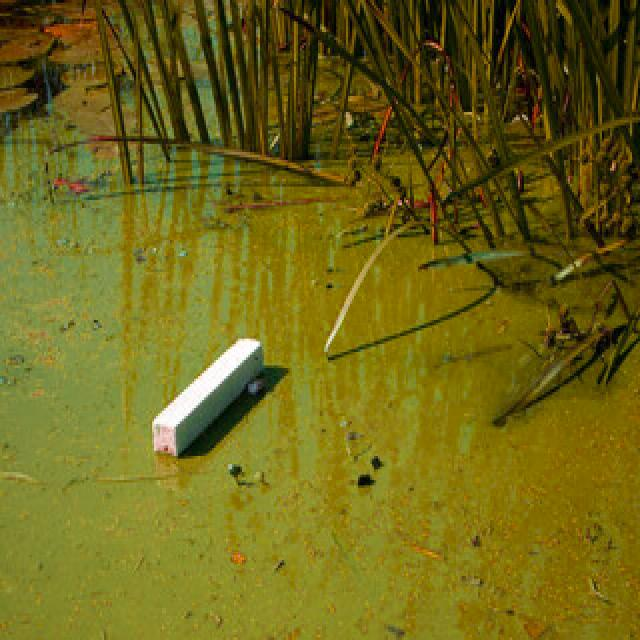Trash: (152, 333, 273, 467)
